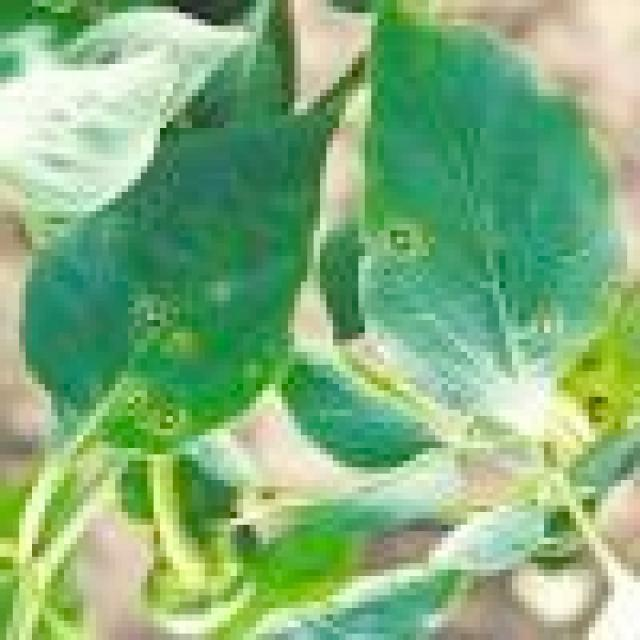Bercak Daun Serkospora: (353, 7, 627, 434), (19, 108, 329, 456)
